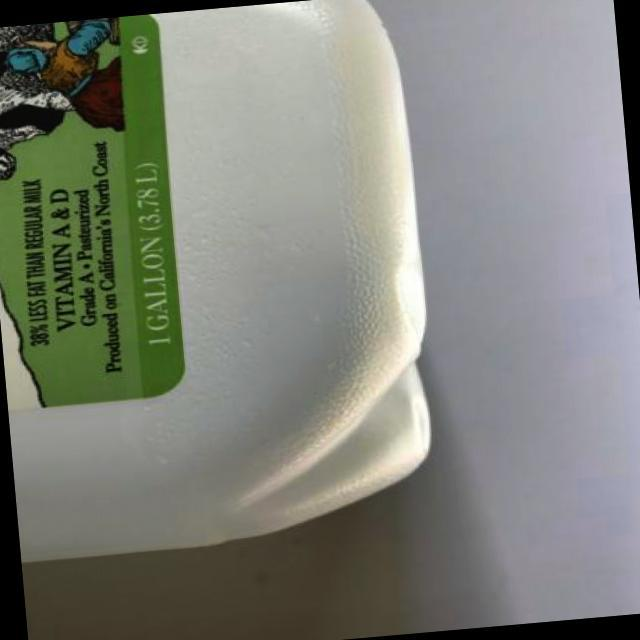HDPE Plastic: (0, 0, 440, 568)
